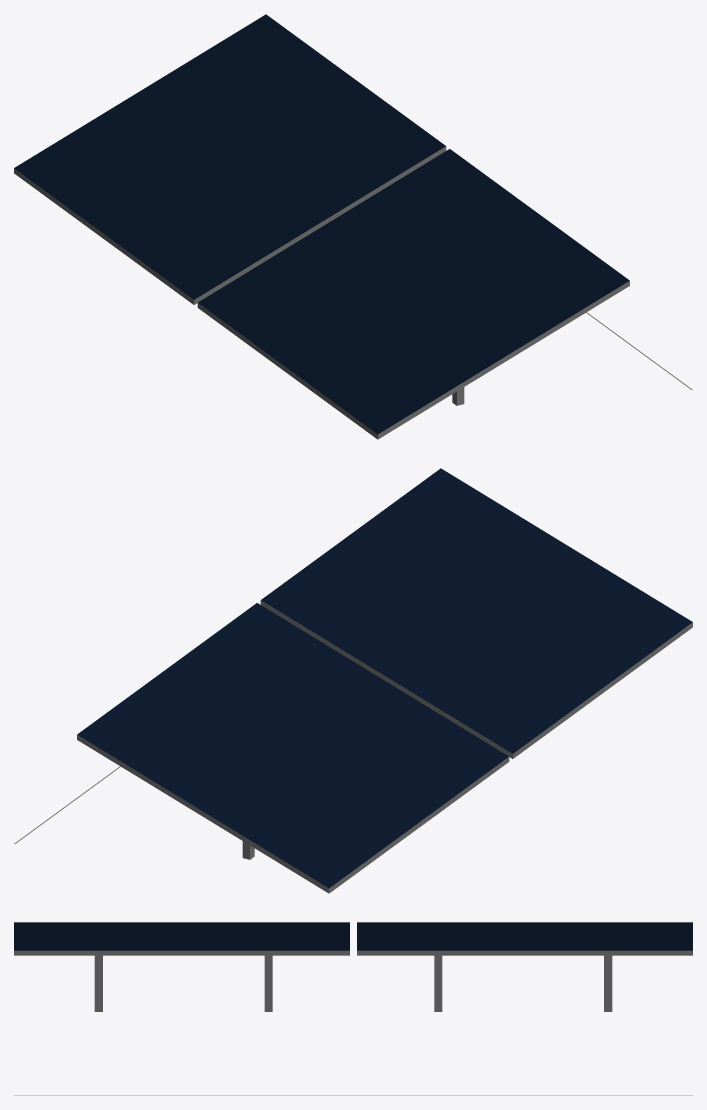
Rendered from tile.fbx.
3 views of the same model, one above another, from view 1: azimuth 30°, elevation 25°; view 2: azimuth 150°, elevation 25°; view 3: azimuth 270°, elevation 25° (orthographic). The views are drawn at different scales.
Visible parts, largest first — view 1: a1054.Tile; view 2: a1054.Tile; view 3: a1054.Tile.
Part boxes in pixels (left/top/right/bottom): a1054.Tile: left=14, top=14, right=692, bottom=439; a1054.Tile: left=14, top=468, right=692, bottom=893; a1054.Tile: left=14, top=922, right=692, bottom=1095.
Bounding box in the file's own units: 5 × 1.9 × 10.
